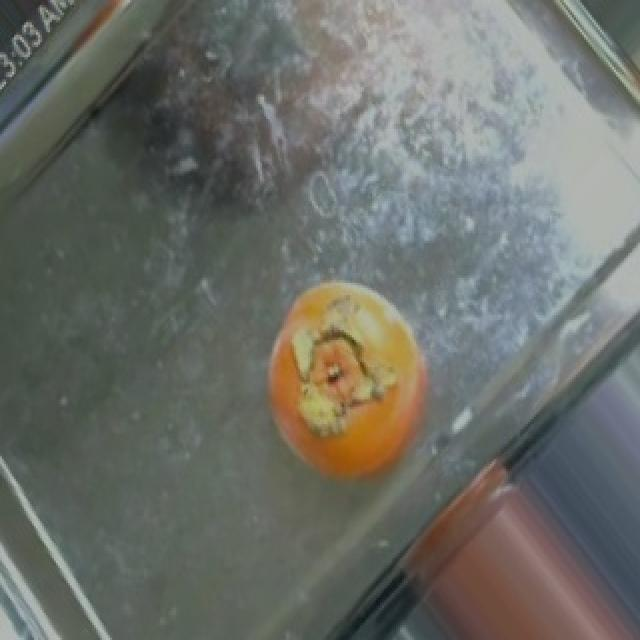Fruit: (252, 261, 452, 506), (390, 446, 632, 640)
